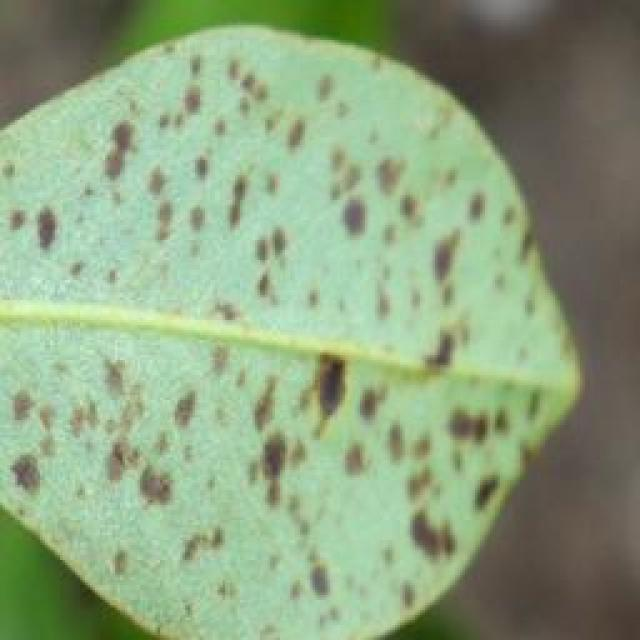Whitefly: (0, 45, 585, 640)
